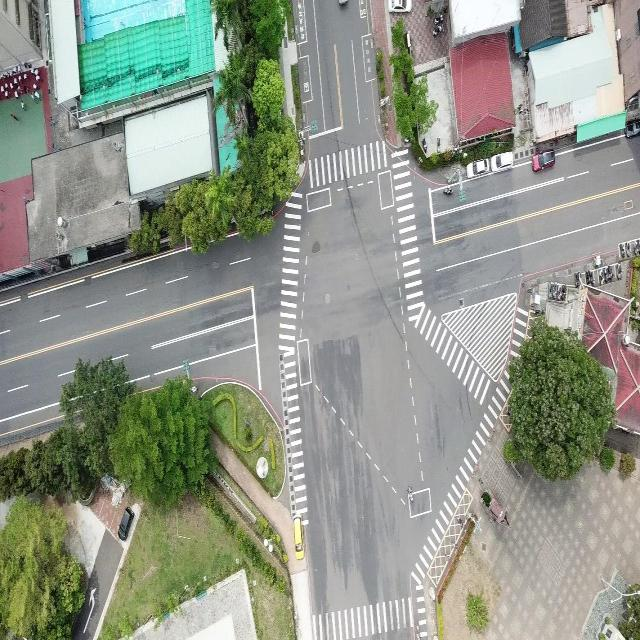bike: (403, 481, 415, 506), (574, 270, 581, 290), (584, 270, 592, 287), (606, 264, 614, 280), (615, 262, 622, 280), (590, 267, 596, 287), (552, 281, 558, 299), (619, 241, 625, 259), (557, 283, 562, 303), (442, 186, 453, 195), (626, 242, 632, 258), (633, 240, 639, 256), (602, 266, 608, 282), (599, 268, 604, 284), (562, 282, 566, 301), (549, 282, 553, 300)
car: (531, 148, 555, 172), (118, 506, 134, 540), (490, 151, 513, 173), (293, 515, 304, 559), (466, 157, 488, 178)
